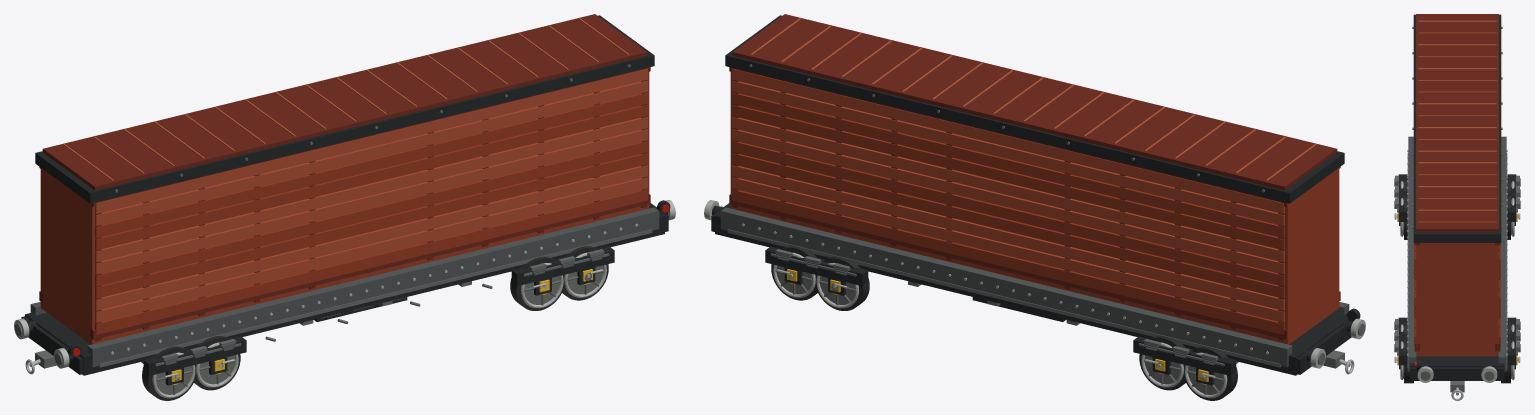
Rendered from freight-001.glb.
3 views of the same model, side by side, from view 1: azimuth 30°, elevation 25°; view 2: azimuth 150°, elevation 25°; view 3: azimuth 270°, elevation 25° (orthographic). The views are drawn at different scales.
Visible parts, largest first — view 1: Roof timber crown, Outer solebar, Wooden van body core, Roof substrate, Individual horizontal timber plank.001, Individual horizontal timber plank.004, Individual horizontal timber plank.002, Individual horizontal timber plank.009, Individual horizontal timber plank.003, Individual horizontal timber plank.007, Individual horizontal timber plank.005, Individual horizontal timber plank.006 (+11 smaller); view 2: Roof timber crown, Outer solebar.001, Wooden van body core, Roof substrate, Individual horizontal timber plank.012, Individual horizontal timber plank.015, Individual horizontal timber plank.013, Individual horizontal timber plank.020, Individual horizontal timber plank.014, Individual horizontal timber plank.018, Individual horizontal timber plank.016, Individual horizontal timber plank.017 (+12 smaller); view 3: Roof timber crown, Wooden van body core, Roof substrate, Outer solebar.001, Outer solebar, Long steel solebar chassis, End buffer beam.001, Bogie side beam.002, Bogie side beam.003, Bogie side beam, Bogie side beam.001, Solebar lower lip (+23 smaller).
Part boxes in pixels (x1,y1,x2,y2): Roof timber crown: (42, 14, 647, 190); Outer solebar: (87, 207, 659, 367); Wooden van body core: (40, 72, 649, 344); Roof substrate: (35, 15, 654, 203); Individual horizontal timber plank.001: (95, 177, 647, 322); Individual horizontal timber plank.004: (95, 141, 647, 286); Individual horizontal timber plank.002: (95, 165, 647, 310); Individual horizontal timber plank.009: (95, 80, 647, 225); Individual horizontal timber plank.003: (95, 153, 647, 298); Individual horizontal timber plank.007: (95, 105, 647, 250); Individual horizontal timber plank.005: (95, 129, 647, 274); Individual horizontal timber plank.006: (95, 117, 647, 262); Roof timber crown: (732, 14, 1337, 190); Outer solebar.001: (720, 207, 1292, 367); Wooden van body core: (730, 72, 1339, 344); Roof substrate: (725, 15, 1344, 203); Individual horizontal timber plank.012: (732, 177, 1284, 322); Individual horizontal timber plank.015: (732, 141, 1284, 286); Individual horizontal timber plank.013: (732, 165, 1284, 310); Individual horizontal timber plank.020: (732, 80, 1284, 225); Individual horizontal timber plank.014: (732, 153, 1284, 298); Individual horizontal timber plank.018: (732, 105, 1284, 250); Individual horizontal timber plank.016: (732, 129, 1284, 274); Individual horizontal timber plank.017: (732, 117, 1284, 262); Roof timber crown: (1416, 14, 1498, 231); Wooden van body core: (1416, 243, 1498, 356); Roof substrate: (1413, 14, 1501, 242); Outer solebar.001: (1498, 136, 1506, 371); Outer solebar: (1408, 136, 1416, 371); Long steel solebar chassis: (1410, 356, 1504, 380); End buffer beam.001: (1411, 367, 1503, 380); Bogie side beam.002: (1398, 317, 1407, 365); Bogie side beam.003: (1507, 317, 1516, 365); Bogie side beam: (1398, 174, 1407, 221); Bogie side beam.001: (1507, 174, 1516, 221); Solebar lower lip: (1407, 153, 1408, 369).
Size of the model in its own units: 8.75 by 2.99 by 1.9.
